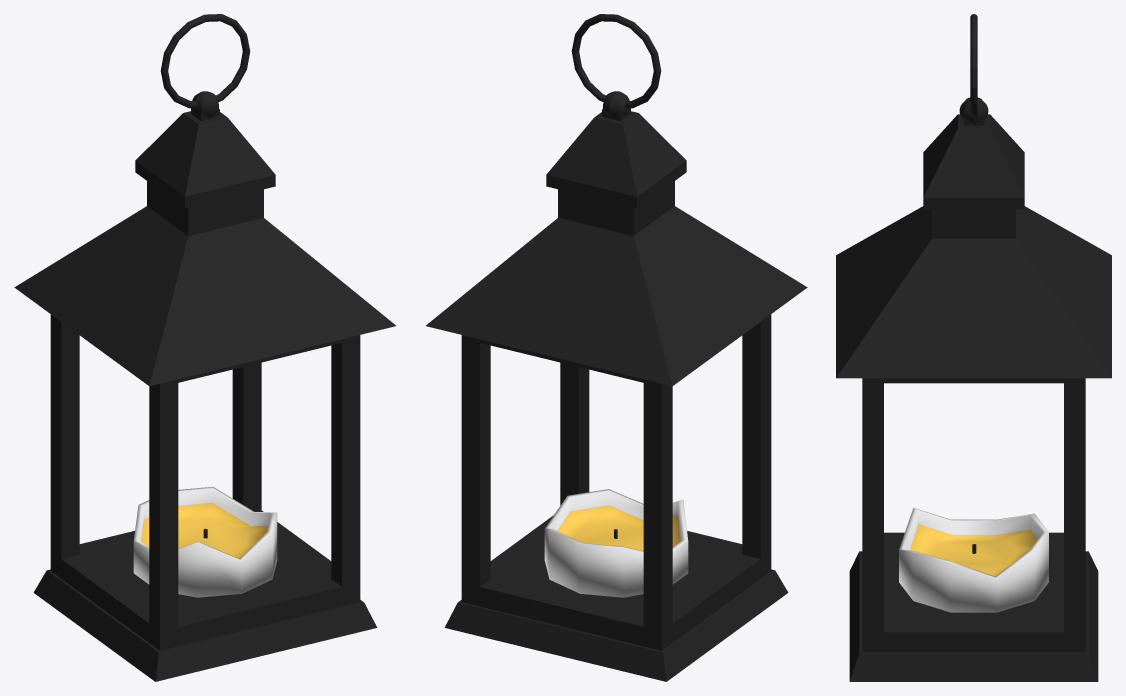
Rendered from VampireLyktgubbe.fbx.
3 views of the same model, side by side, from view 1: azimuth 30°, elevation 25°; view 2: azimuth 150°, elevation 25°; view 3: azimuth 270°, elevation 25° (orthographic). The views are drawn at different scales.
Parts seen in each view (by area): view 1: Cube.005; view 2: Cube.005; view 3: Cube.005.
Part boxes in pixels (x1,y1,x2,y2): Cube.005: (14,14,395,681); Cube.005: (426,14,807,681); Cube.005: (836,14,1111,681).
Size of the model in its own units: 0.295 by 0.6788 by 0.2792.
